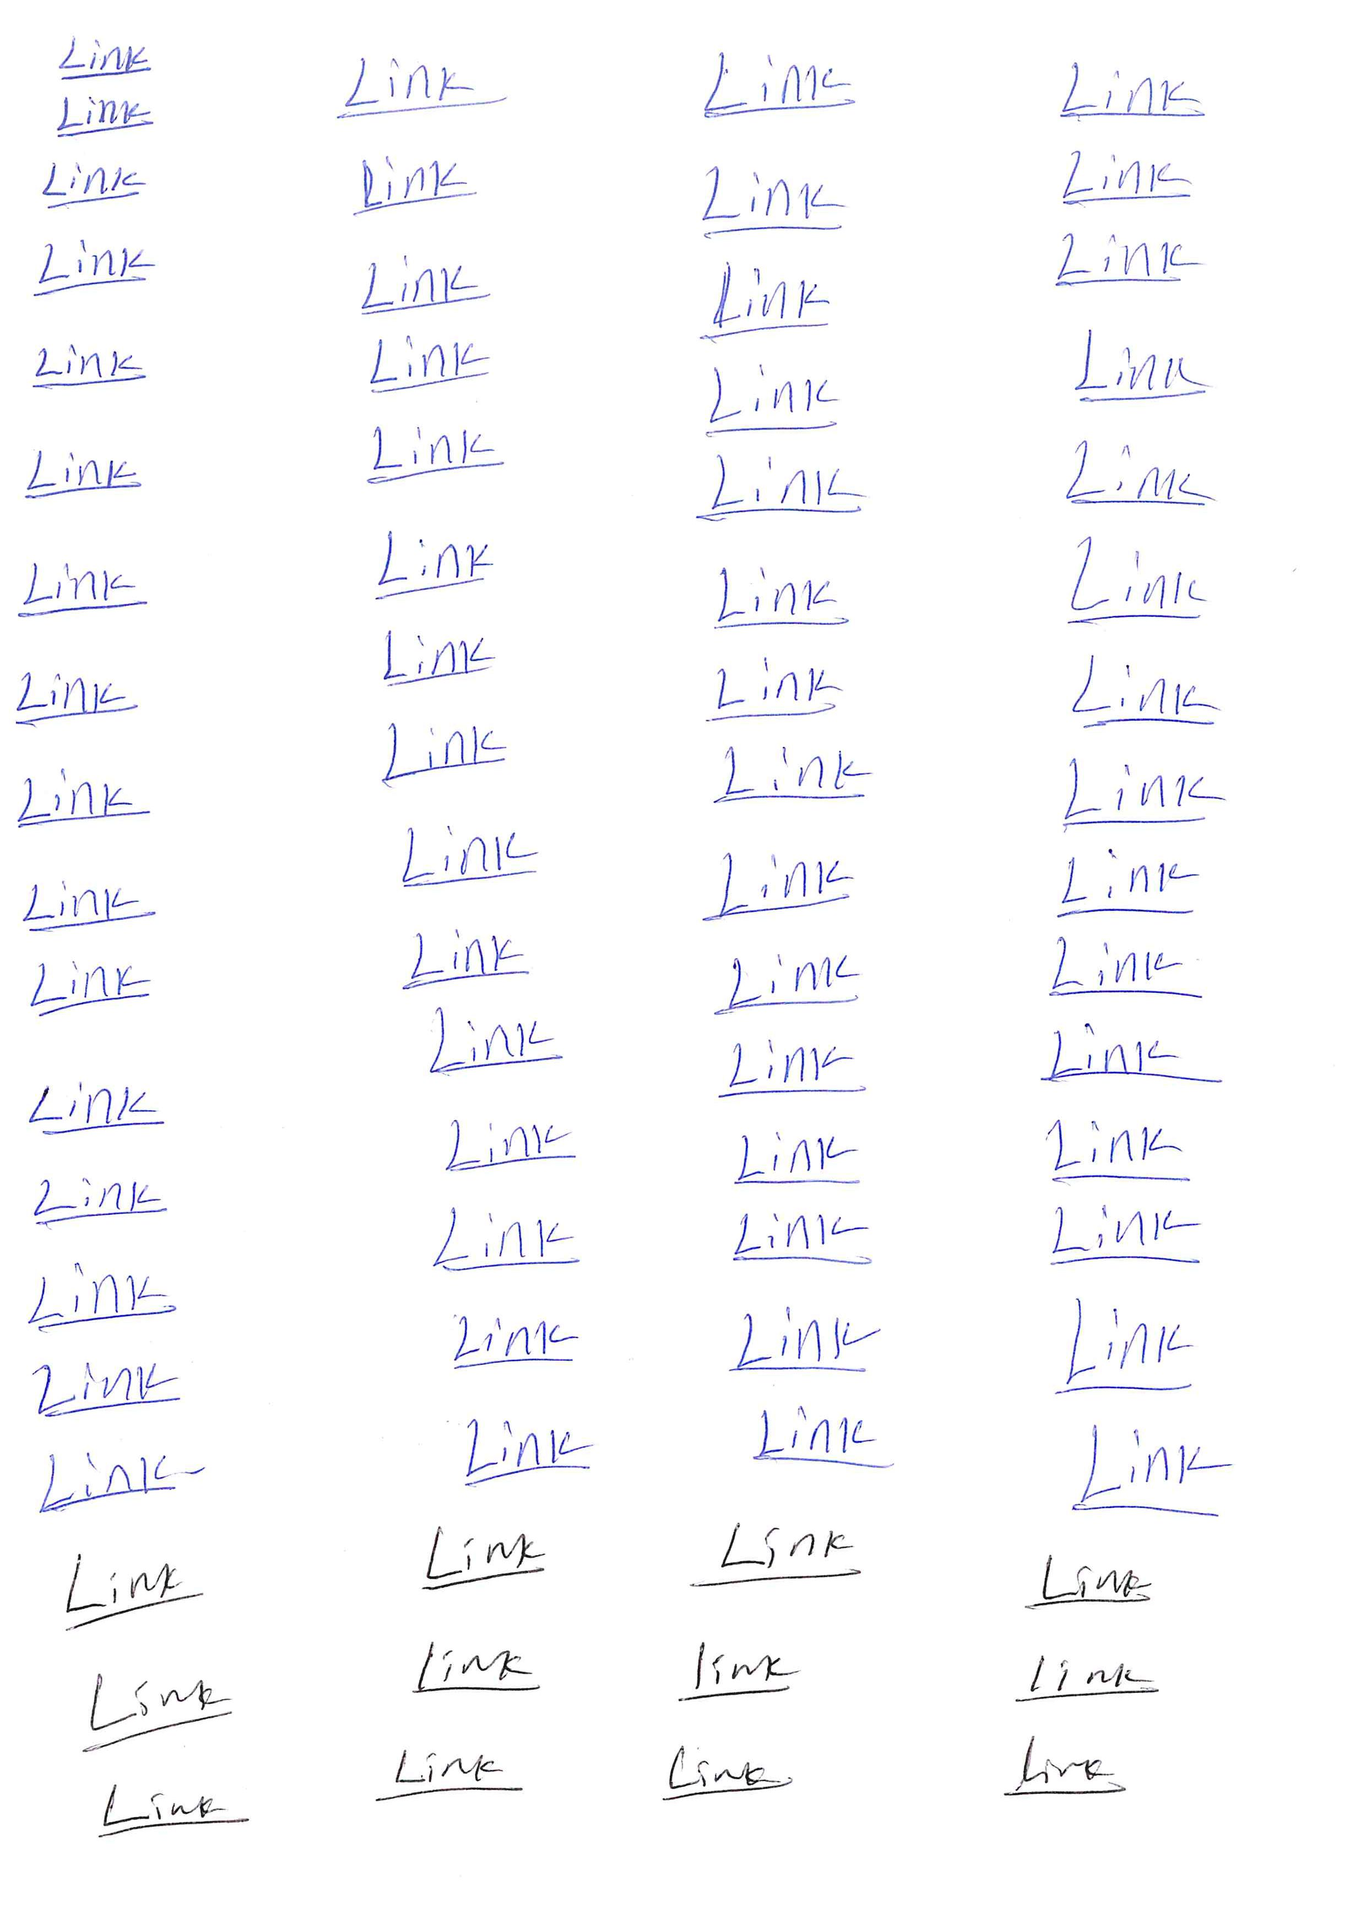Link: (1066, 1422, 1226, 1516), (1064, 531, 1208, 628), (1032, 1017, 1226, 1084), (78, 1671, 228, 1755), (1060, 753, 1226, 828), (693, 1521, 860, 1592), (698, 849, 857, 923), (696, 263, 840, 343), (24, 1257, 174, 1332), (1072, 325, 1212, 405), (334, 55, 497, 123), (1054, 846, 1203, 920), (699, 49, 854, 120), (430, 1202, 581, 1275), (1063, 441, 1217, 512), (1044, 934, 1211, 1000), (696, 454, 856, 522), (724, 1306, 884, 1374), (702, 367, 846, 441), (708, 949, 863, 1017), (58, 1547, 185, 1629), (696, 167, 843, 238), (426, 1002, 566, 1076), (710, 741, 872, 804), (1044, 1113, 1189, 1184), (33, 1445, 176, 1516), (399, 821, 543, 892), (1047, 1204, 1202, 1269), (370, 526, 498, 605), (1056, 58, 1208, 123), (418, 1518, 551, 1592), (13, 763, 154, 832), (461, 1416, 596, 1487), (716, 1036, 860, 1100), (704, 656, 840, 723), (398, 926, 531, 994), (365, 421, 503, 486), (376, 1742, 519, 1804), (729, 1208, 875, 1269), (380, 719, 510, 787), (713, 563, 840, 633), (35, 1357, 177, 1419), (998, 1733, 1129, 1798), (96, 1785, 244, 1842), (13, 559, 149, 621), (30, 1167, 171, 1226), (671, 1641, 803, 1705), (750, 1408, 884, 1470), (441, 1116, 580, 1175), (30, 235, 155, 300), (356, 254, 486, 316), (449, 1311, 582, 1372), (1057, 146, 1193, 206), (370, 328, 492, 393), (1051, 231, 1196, 285), (27, 1079, 167, 1136), (656, 1743, 789, 1802), (27, 957, 152, 1019), (10, 668, 142, 727), (730, 1133, 866, 1189), (21, 880, 157, 934), (352, 154, 469, 217), (378, 625, 497, 688), (1024, 1554, 1149, 1612), (410, 1638, 534, 1696), (22, 445, 139, 506), (1008, 1656, 1158, 1703), (27, 342, 151, 392), (37, 157, 145, 213), (55, 35, 157, 87), (55, 95, 157, 142)
